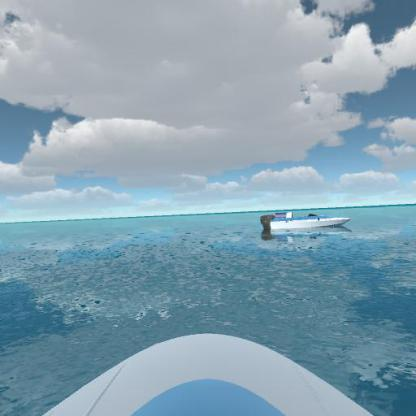usv1: (256, 206, 358, 238)
